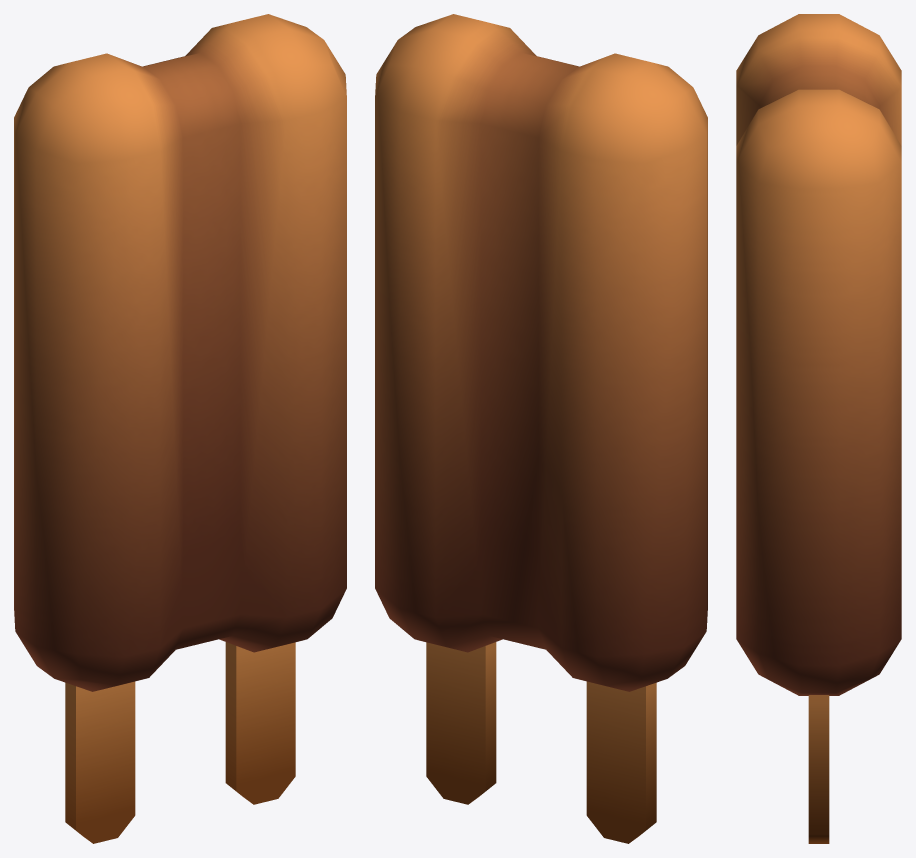
File: m_DoublePopsicle03.fbx
3 views of the same model, side by side, from view 1: azimuth 30°, elevation 25°; view 2: azimuth 150°, elevation 25°; view 3: azimuth 270°, elevation 25° (orthographic). The views are drawn at different scales.
Parts seen in each view (by area): view 1: m_DoublePopsicle03_L, m_DoublePopsicle03_R; view 2: m_DoublePopsicle03_L, m_DoublePopsicle03_R; view 3: m_DoublePopsicle03_R, m_DoublePopsicle03_L.
Part boxes in pixels (left/top/right/bottom): m_DoublePopsicle03_L: left=14, top=53, right=211, bottom=843; m_DoublePopsicle03_R: left=159, top=14, right=346, bottom=804; m_DoublePopsicle03_L: left=510, top=53, right=707, bottom=843; m_DoublePopsicle03_R: left=375, top=14, right=562, bottom=804; m_DoublePopsicle03_R: left=736, top=80, right=901, bottom=843; m_DoublePopsicle03_L: left=736, top=14, right=901, bottom=145.
Bounding box in the file's own units: 9.64 × 22.99 × 4.64.
